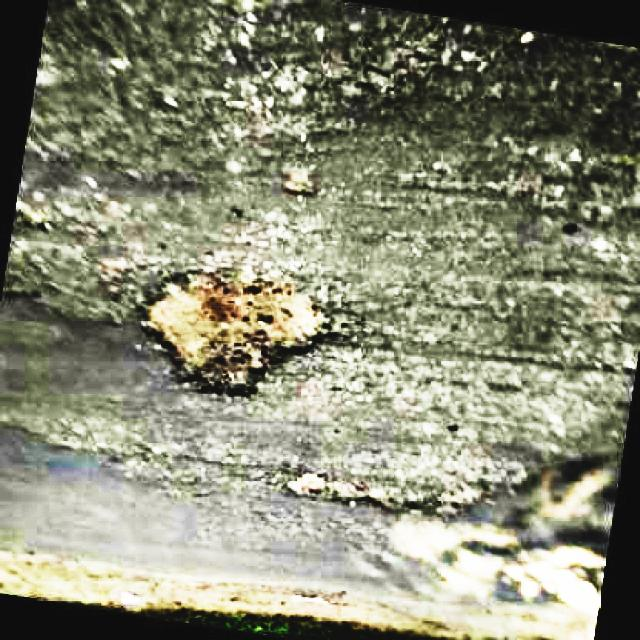pothole: (140, 265, 334, 397)
